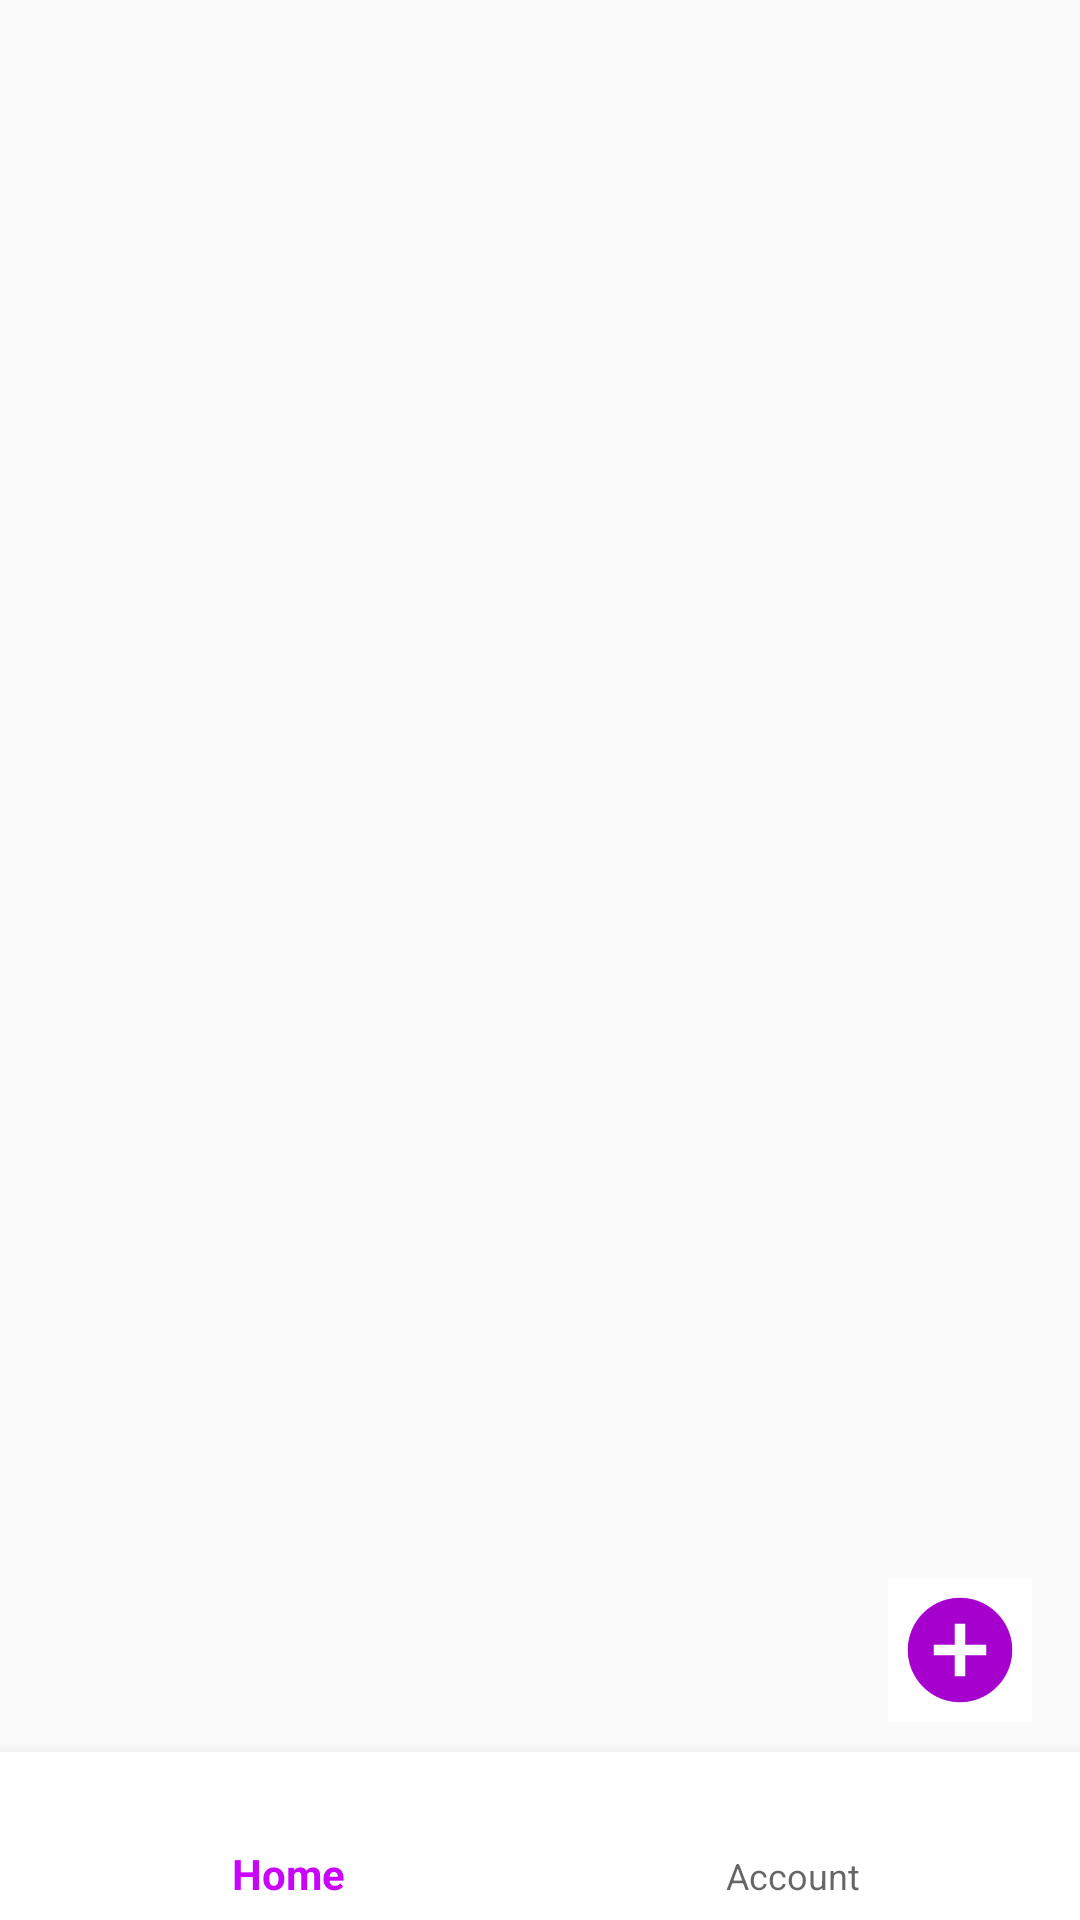

Named icons in this screenshot (1080 × 1920) and their centers, [x,y]:
add: [960,1650]
